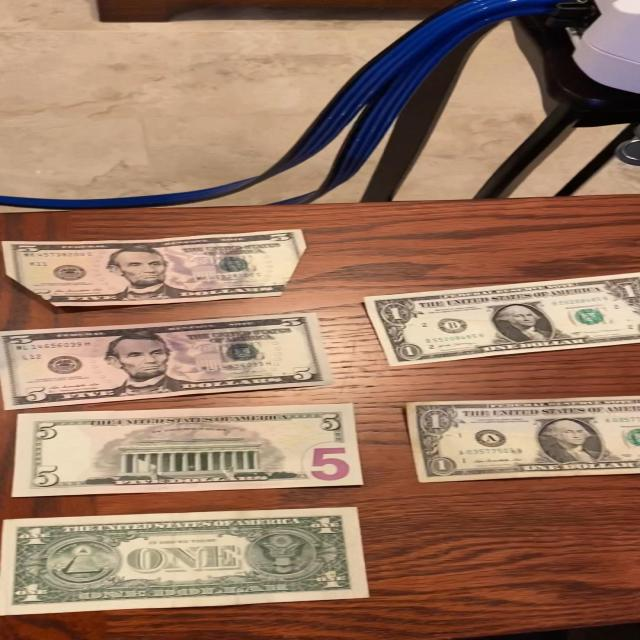1-Back: (2, 504, 380, 618)
1-Front: (363, 269, 640, 371), (403, 389, 640, 482)
5-Back: (7, 400, 369, 500)
5-Front: (1, 308, 334, 413), (0, 224, 316, 310)
